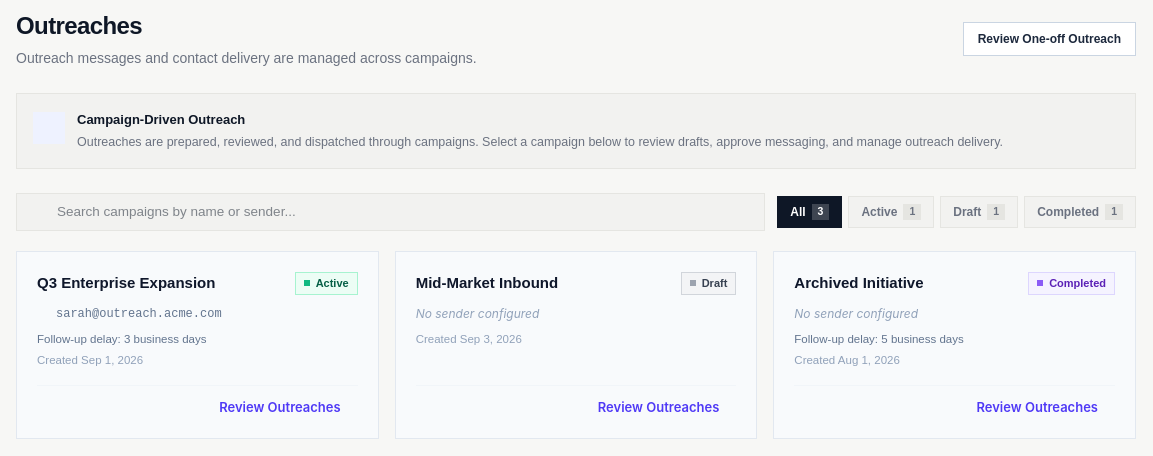
Test: OutreachesIndexComponent › filters campaigns by status pill
Expected: the heading "Q3 Enterprise Expansion" is shown, [37,272,215,295]
Click the button "Draft 1" at x=979, y=212, box [940,196,1018,228]
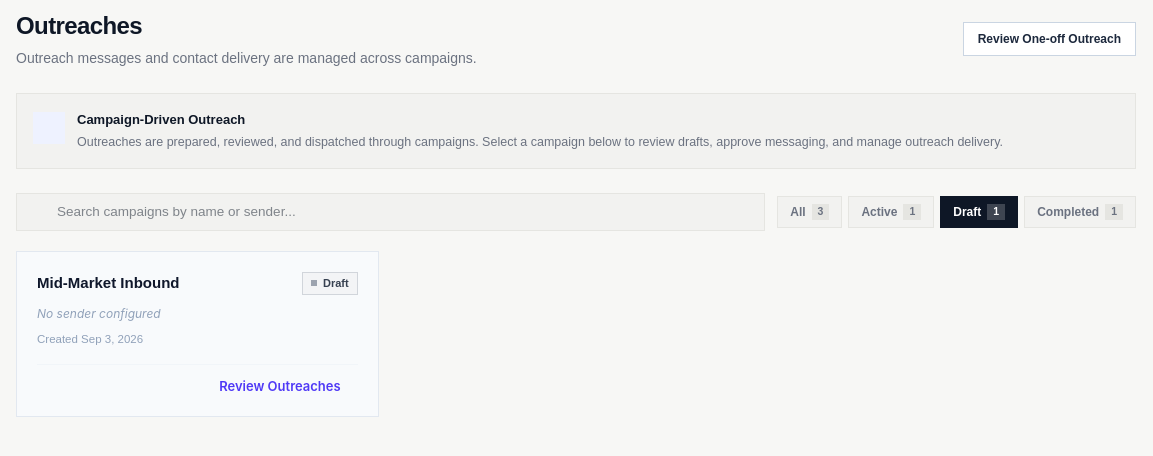
Expected: the heading "Mid-Market Inbound" is shown, [37,272,180,295]
Result: the heading "Q3 Enterprise Expansion" is gone
Result: the heading "Archived Initiative" is gone
